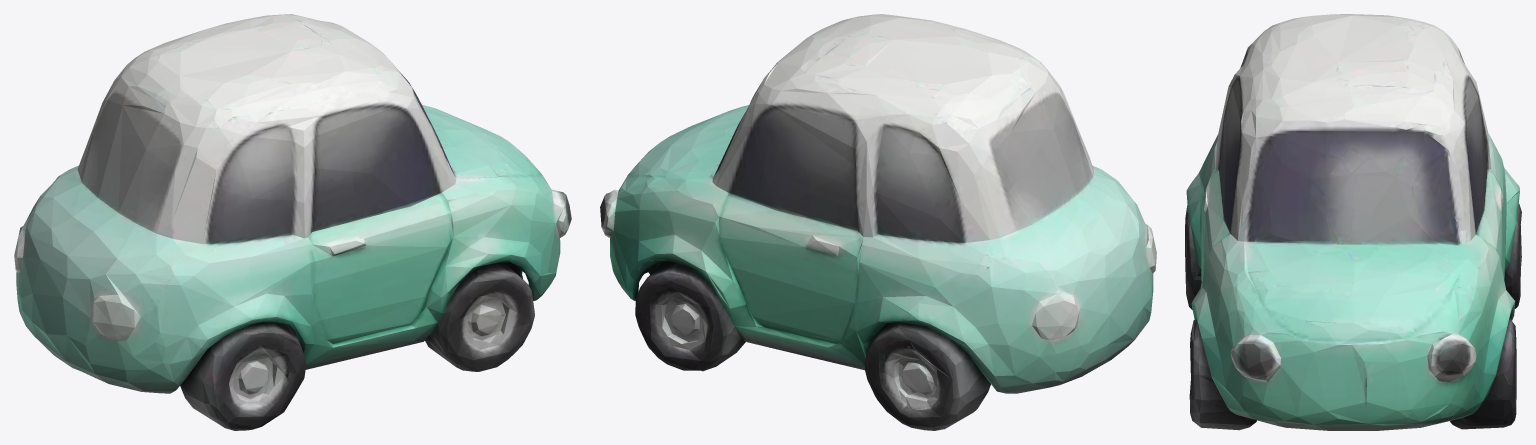
The model's file is car-mini.glb.
The picture shows the model from 3 angles, left to right: view 1: azimuth 30°, elevation 25°; view 2: azimuth 150°, elevation 25°; view 3: azimuth 270°, elevation 25°; orthographic projection.
Parts seen in each view (by area): view 1: geometry_0; view 2: geometry_0; view 3: geometry_0.
Boxes of the visible parts, <box> form: geometry_0: <box>14,14,571,430</box>; geometry_0: <box>600,14,1156,430</box>; geometry_0: <box>1185,14,1521,430</box>.
Bounding box in the file's own units: 0.9983 × 0.5928 × 0.6018.
1 material, 1 textured.
